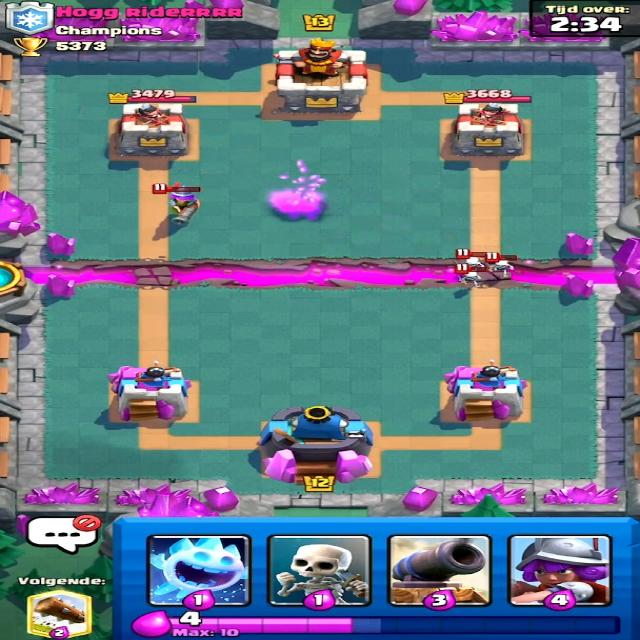Cannon_Card: (394, 535, 492, 604)
Enemy_Musketeer_Troop: (145, 186, 206, 233)
Enemy_Skeleton_Troop: (454, 269, 490, 293), (491, 256, 522, 278), (454, 251, 488, 270)
Ice_Spirit_Card: (149, 532, 253, 610)
Musketeer_Card: (510, 533, 612, 615)
Skeleton_Card: (265, 536, 369, 608)
